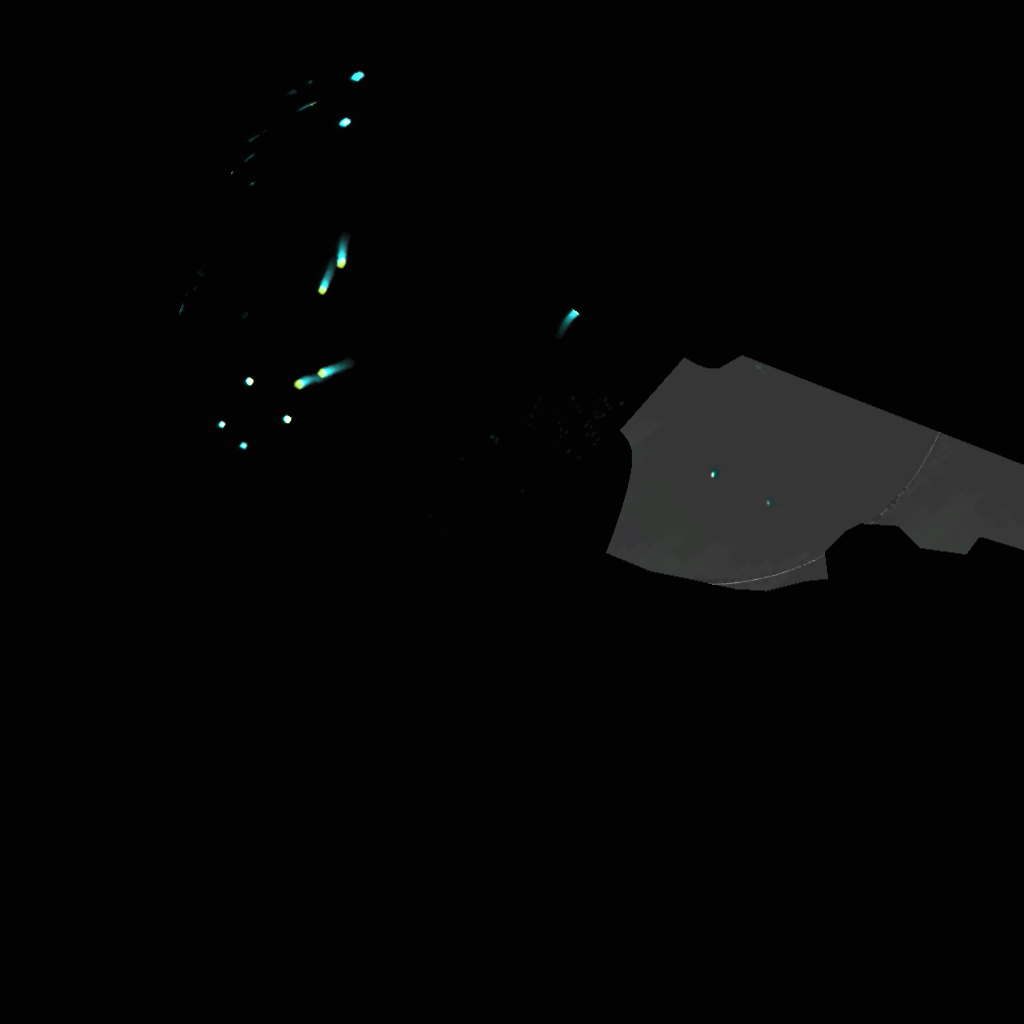B: (334, 225, 354, 269), (316, 356, 354, 378), (317, 263, 336, 299), (290, 375, 325, 391), (563, 301, 578, 337)
